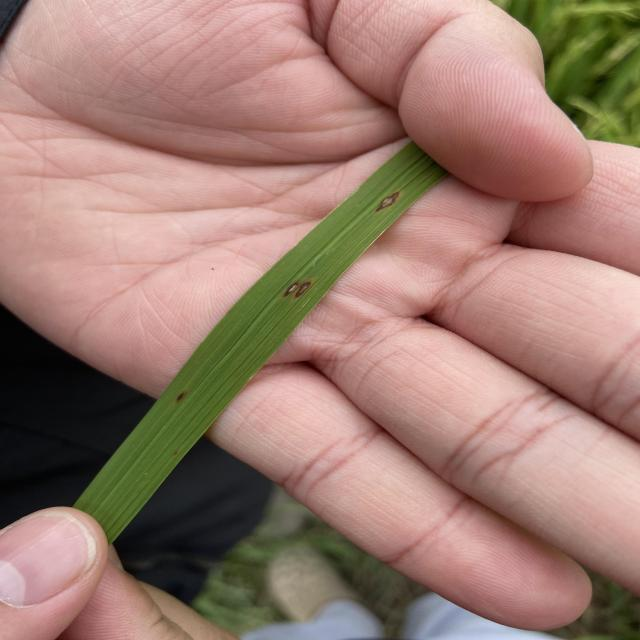Dao on: (375, 190, 401, 212), (293, 280, 312, 300), (283, 283, 299, 297)
